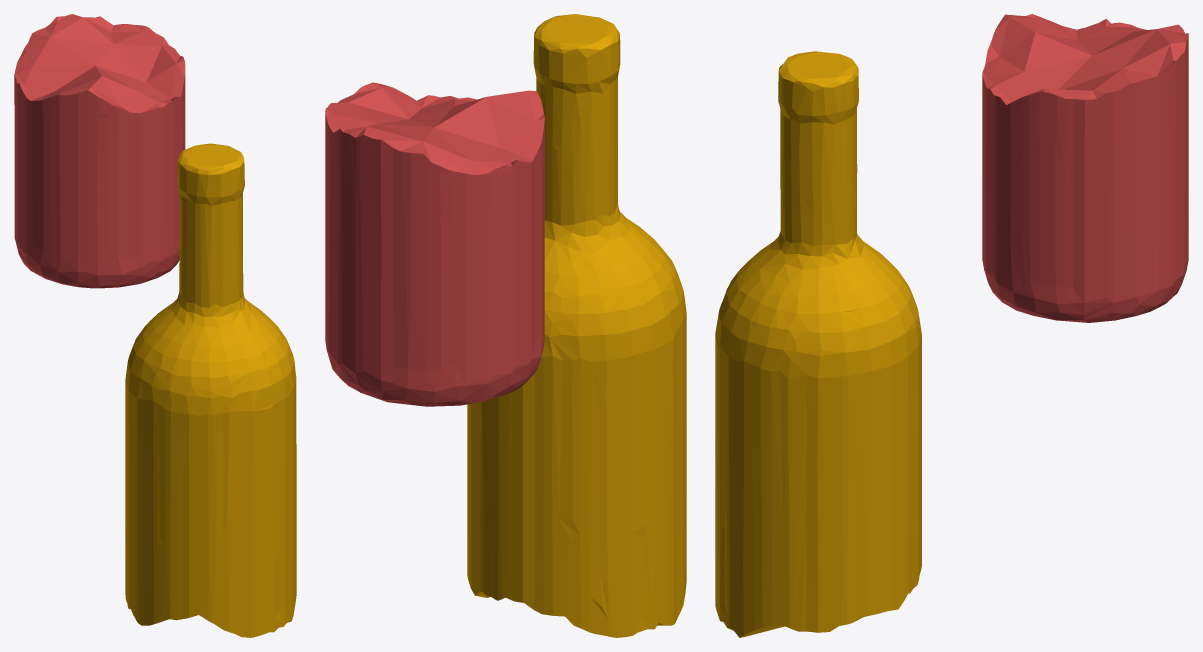
The model's file is fractured_12_2pcs_transformed.glb.
The picture shows the model from 3 angles, left to right: view 1: azimuth 30°, elevation 25°; view 2: azimuth 150°, elevation 25°; view 3: azimuth 270°, elevation 25°; orthographic projection. The views are drawn at different scales.
Visible parts, largest first — view 1: piece_0.obj, piece_1.obj; view 2: piece_0.obj, piece_1.obj; view 3: piece_0.obj, piece_1.obj.
Part boxes in pixels (x1,y1,x2,y2): piece_0.obj: (125, 143, 296, 637); piece_1.obj: (14, 14, 185, 288); piece_0.obj: (467, 14, 686, 637); piece_1.obj: (325, 82, 544, 406); piece_0.obj: (715, 51, 921, 637); piece_1.obj: (982, 14, 1188, 322).
Bounding box in the file's own units: 0.2492 × 0.7709 × 0.5707.
